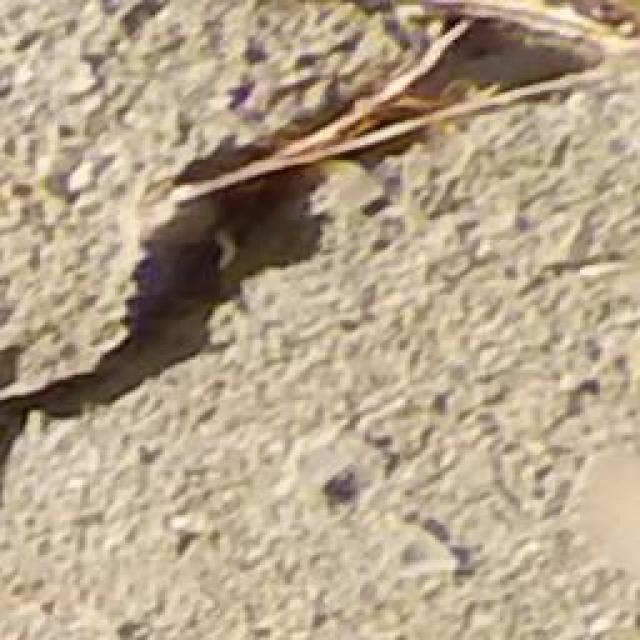concrete-crack: (0, 0, 623, 478)
